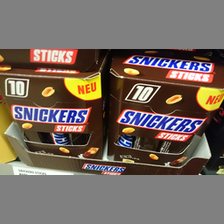chocolate: (111, 53, 222, 164), (1, 64, 103, 159)
